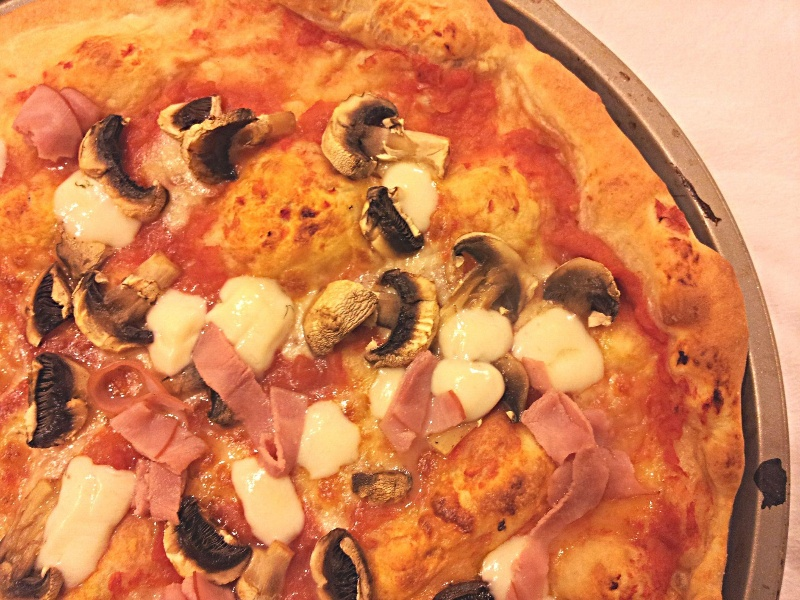champignon: (320, 91, 464, 184), (67, 251, 192, 354), (74, 115, 180, 230), (442, 227, 536, 332), (12, 351, 97, 454), (298, 518, 388, 600), (370, 270, 441, 373)
